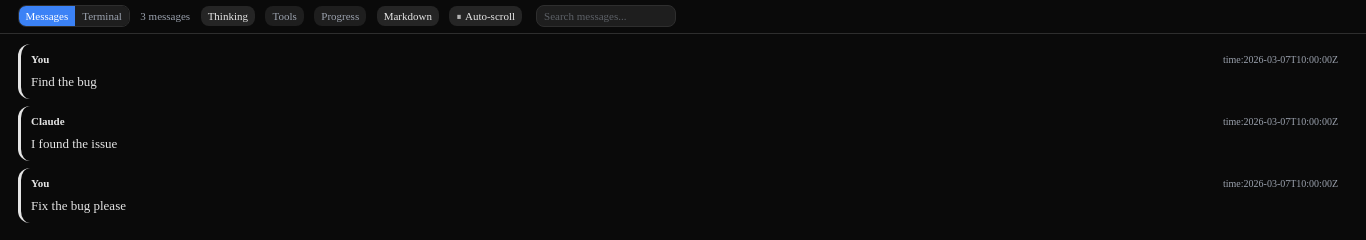
it: MessageList search › shows singular "match" for single result
The width and height of the screenshot is (1366, 240).
Step 1. Type "issue" into the search field labelled "Search messages" → (606, 16), box [536,5,676,27]
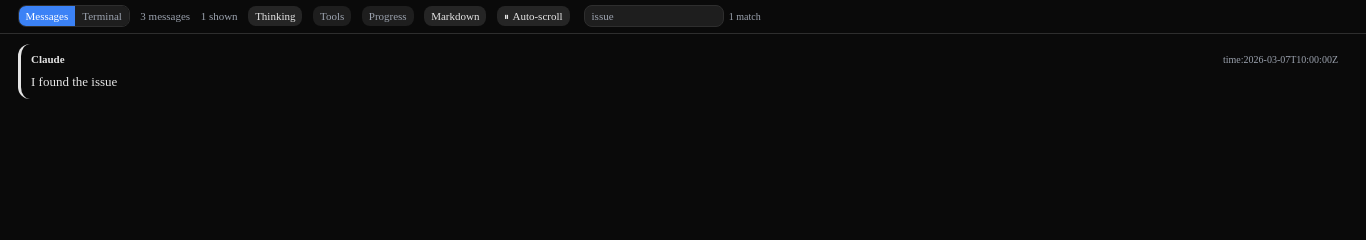
expect the text "1 match" is shown: met, box [729,9,761,24]
